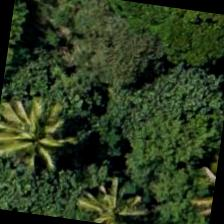Kelapa_Sawit: (0, 89, 87, 191), (70, 168, 167, 223)
